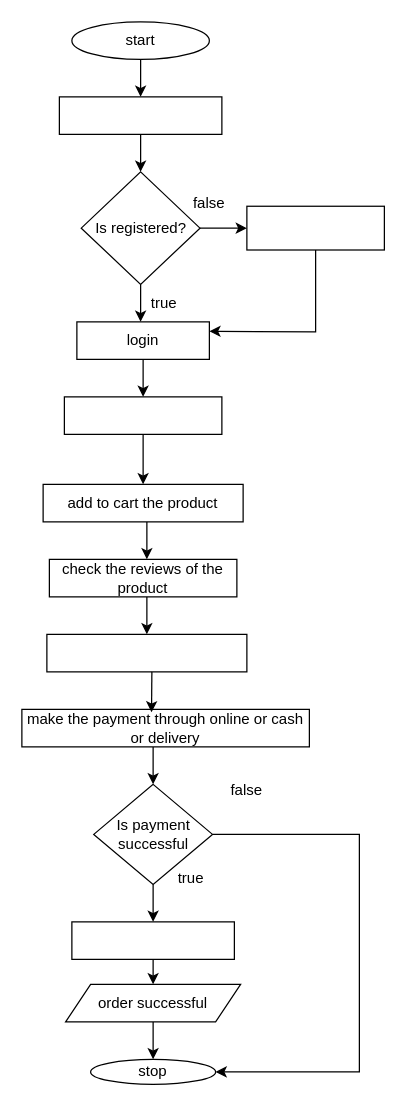
The diagram is 406 pixels wide and 1106 high, and some of its shapes have lost their labels. Here are the shapes that lost their labels. From the top down, the centre of each, then its label:
At pixel 140 115: "go to the website".
At pixel 315 227: "register now".
At pixel 142 415: "search for the product".
At pixel 146 652: "provide the shipping details".
At pixel 152 940: "confirm order".
